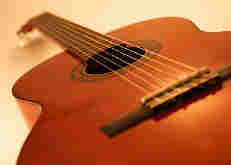guitar: (10, 12, 231, 164)
